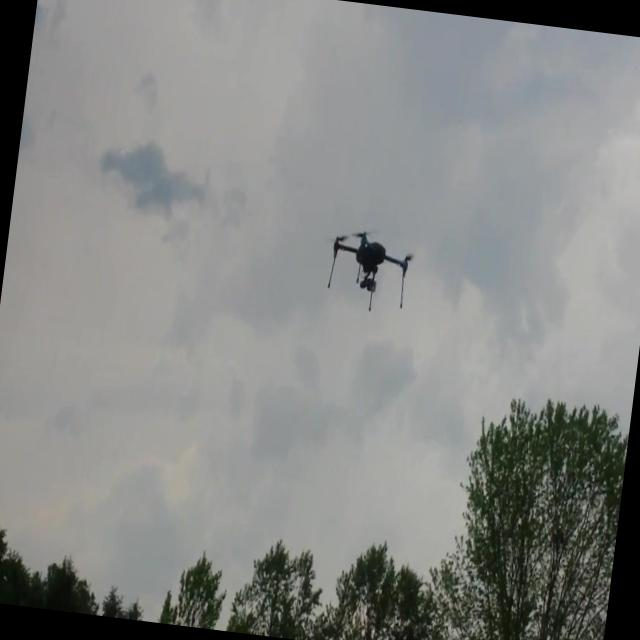drone: (319, 224, 416, 317)
